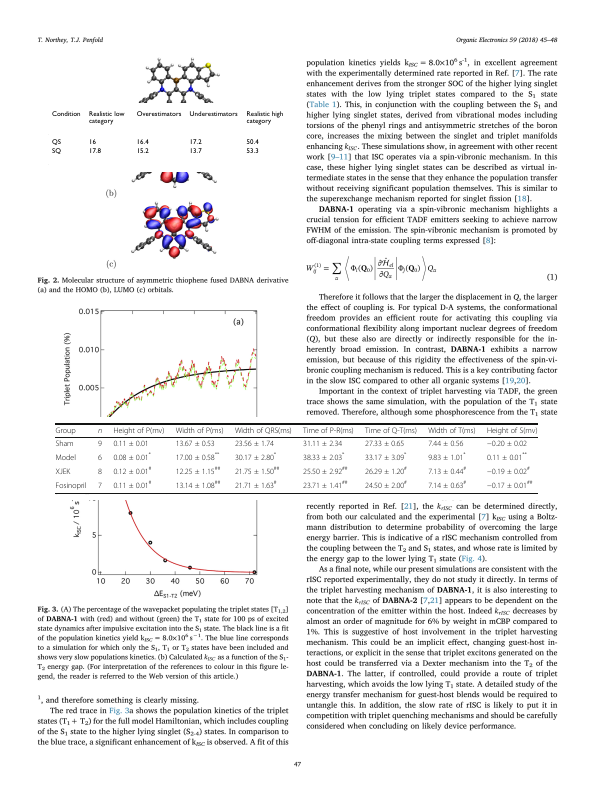borderless: (55, 422, 538, 493), (46, 108, 286, 166)
cell: (245, 110, 284, 126), (87, 110, 125, 126), (234, 426, 293, 435), (486, 479, 533, 490), (175, 465, 221, 476), (234, 465, 280, 476), (302, 465, 348, 476), (175, 479, 221, 490), (302, 479, 348, 490), (175, 451, 220, 462), (486, 465, 531, 476), (364, 426, 418, 435), (364, 465, 408, 476), (234, 479, 278, 490), (364, 479, 408, 490), (112, 426, 165, 435), (302, 426, 355, 435), (234, 451, 277, 462), (302, 451, 345, 462), (364, 451, 407, 462), (486, 426, 538, 435), (486, 451, 528, 462), (427, 426, 477, 435), (188, 110, 238, 119), (175, 426, 224, 435), (112, 451, 152, 462), (427, 451, 467, 462), (112, 465, 152, 476), (427, 465, 467, 476), (112, 479, 152, 490), (427, 479, 467, 490), (135, 110, 182, 119), (486, 439, 528, 448), (175, 439, 216, 448), (234, 439, 275, 448), (302, 439, 343, 448), (364, 439, 405, 448), (112, 439, 150, 448), (427, 439, 464, 448), (55, 481, 87, 490), (51, 110, 81, 119), (55, 453, 77, 462), (55, 426, 76, 435), (55, 439, 74, 448), (55, 467, 71, 476), (135, 138, 149, 147), (188, 138, 202, 147), (245, 138, 259, 147), (87, 147, 101, 156), (135, 147, 149, 156), (188, 147, 202, 156), (245, 147, 259, 156), (51, 138, 61, 147), (51, 147, 61, 156), (87, 138, 96, 147), (97, 439, 103, 448), (97, 453, 103, 462), (97, 467, 103, 476), (97, 481, 103, 490), (97, 428, 103, 434)
